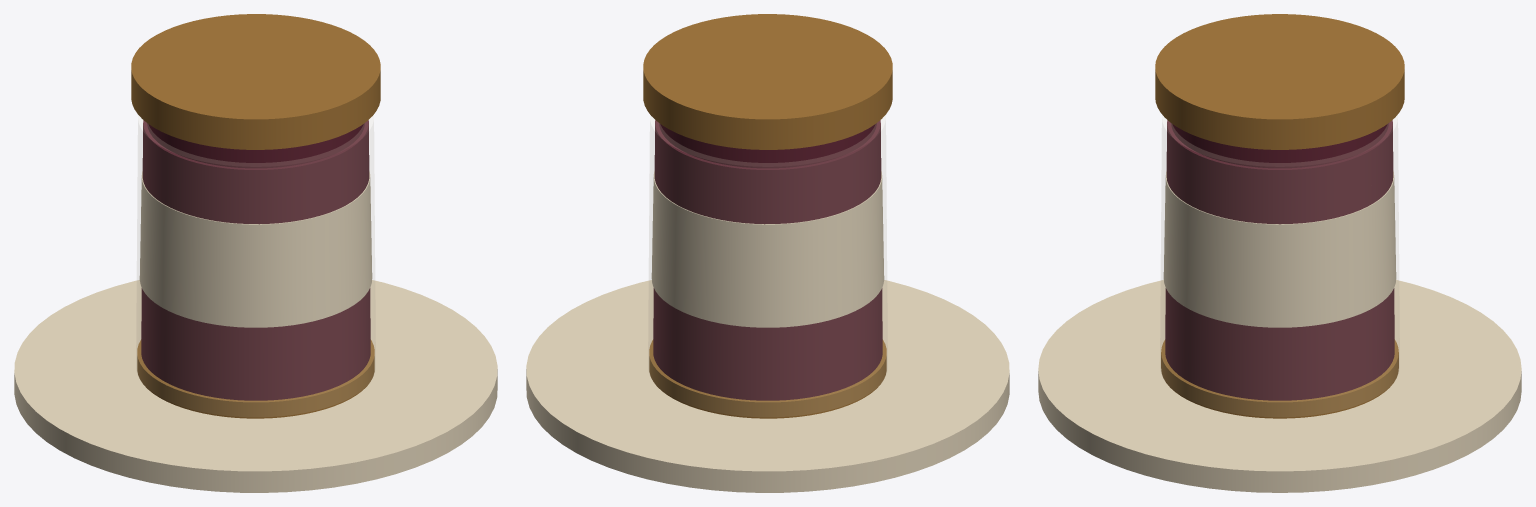
The model's file is plum-preserve-v1.glb.
3 views of the same model, side by side, from view 1: azimuth 30°, elevation 25°; view 2: azimuth 150°, elevation 25°; view 3: azimuth 270°, elevation 25° (orthographic).
Parts seen in each view (by area): view 1: plum-preserve-concept; view 2: plum-preserve-concept; view 3: plum-preserve-concept.
Boxes of the visible parts, <box> form: plum-preserve-concept: <box>14,14,497,492</box>; plum-preserve-concept: <box>526,14,1009,492</box>; plum-preserve-concept: <box>1038,14,1521,492</box>.
Size of the model in its own units: 2.44 by 1.8 by 2.44.
